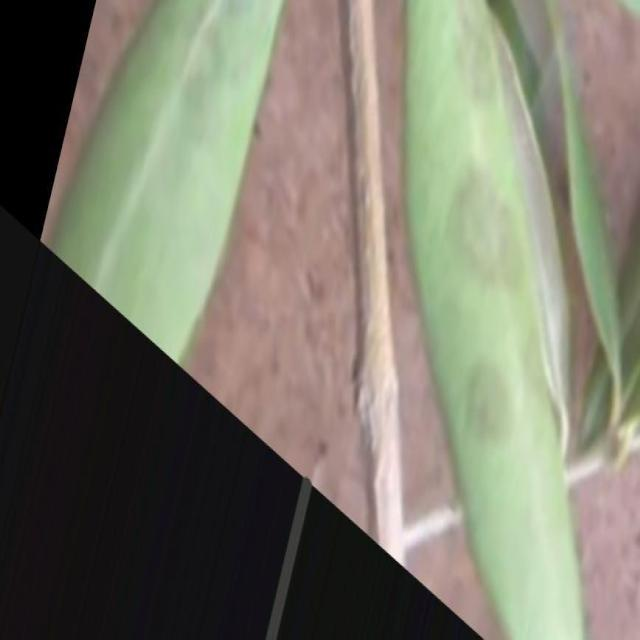Peacock Eye: (406, 0, 585, 639)
